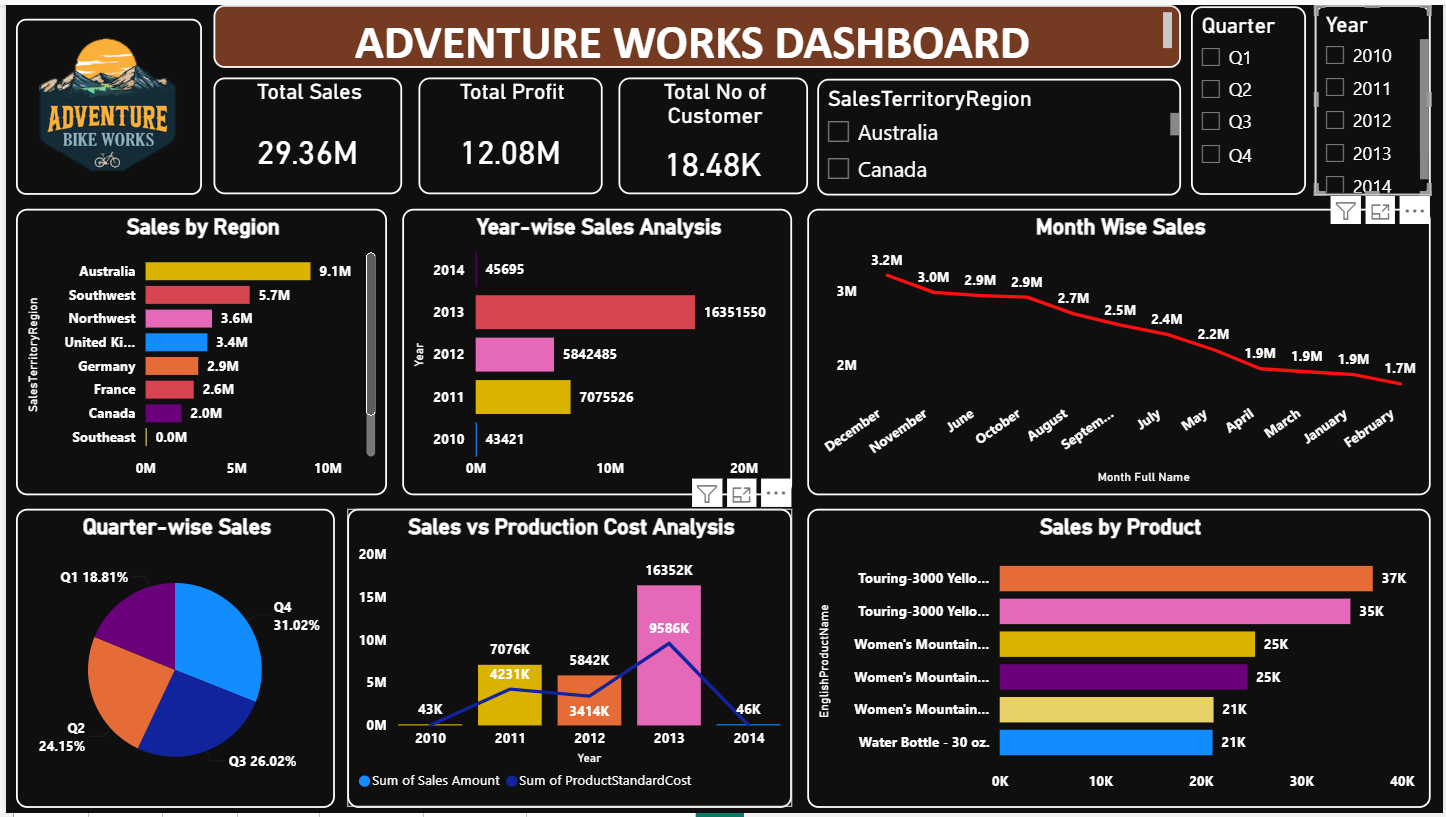

What the dashboard file says about the page in this screenshot:
{"tool":"powerbi","page":{"name":"Overall Dasboard","canvas":[1280,720],"ordinal":6},"visuals":[{"type":"textbox","box":[185,0,861.2,56.2],"z":0},{"type":"card","title":"Total Sales ","fields":{"Values":["Sum(FactInternetSales_All.Sales Amount)"]},"box":[185,65,167.7,104.1],"z":1000},{"type":"card","title":"Total Profit","fields":{"Values":["Sum(FactInternetSales_All.Profit)"]},"box":[367.7,65,163.6,104.1],"z":2000},{"type":"card","title":"Total No of Customer","fields":{"Values":["CountNonNull(Dimcustomer.CustomerKey)"]},"box":[545,65,168.6,104.1],"z":3000},{"type":"clusteredBarChart","title":"Sales by Region","fields":{"Category":["DimSalesTerritory.SalesTerritoryRegion"],"Y":["Sum(FactInternetSales_All.Sales Amount)"]},"box":[9,181.5,330.5,255],"z":4000},{"type":"clusteredBarChart","title":"Year-wise Sales Analysis","fields":{"Y":["Sum(FactInternetSales_All.Sales Amount)"],"Category":["FactInternetSales_All.Year"]},"box":[352.5,181.2,347.5,255],"z":5000},{"type":"pieChart","title":"Quarter-wise Sales","fields":{"Category":["FactInternetSales_All.Quarter"],"Y":["Sum(FactInternetSales_All.Sales Amount)"]},"box":[8.5,448.5,283.8,266.2],"z":6000},{"type":"lineStackedColumnComboChart","title":"Sales vs Production Cost Analysis","fields":{"Y":["Sum(FactInternetSales_All.Sales Amount)"],"Y2":["Sum(FactInternetSales_All.ProductStandardCost)"],"Category":["FactInternetSales_All.Year"]},"box":[303.8,448.5,396.2,266.2],"z":7000},{"type":"slicer","fields":{"Values":["FactInternetSales_All.Year"]},"box":[1165.9,0,102.9,169.4],"z":8000},{"type":"lineChart","title":"Month Wise Sales","fields":{"Y":["Sum(FactInternetSales_All.Sales Amount)"],"Category":["FactInternetSales_All.Month Full Name"]},"box":[713.5,181.2,555.3,255.3],"z":9000},{"type":"clusteredBarChart","title":"Sales by Product","fields":{"Category":["DimProduct.EnglishProductName"],"Y":["Sum(FactInternetSales_All.Sales Amount)"]},"box":[713.8,448.8,555,266.2],"z":10000},{"type":"slicer","fields":{"Values":["DimSalesTerritory.SalesTerritoryRegion"]},"box":[722.4,65.3,324.1,104.1],"z":11000},{"type":"slicer","fields":{"Values":["FactInternetSales_All.Quarter"]},"box":[1055.3,1.2,102.4,168.2],"z":12000},{"type":"image","box":[8.4,12.1,165.3,156.8],"z":13000}]}

Visuals, with their boxes in screenshot pixels (x1, y1, x2, y2), scaled from the page's 1280x720 canvas onto the 1446x817 screenshot:
textbox: l=209, t=0, r=1182, b=64
"Total Sales " card: l=209, t=74, r=398, b=192
"Total Profit" card: l=415, t=74, r=600, b=192
"Total No of Customer" card: l=616, t=74, r=806, b=192
"Sales by Region" clusteredBarChart: l=10, t=206, r=384, b=495
"Year-wise Sales Analysis" clusteredBarChart: l=398, t=206, r=791, b=495
"Quarter-wise Sales" pieChart: l=10, t=509, r=330, b=811
"Sales vs Production Cost Analysis" lineStackedColumnComboChart: l=343, t=509, r=791, b=811
slicer - FactInternetSales_All.Year: l=1317, t=0, r=1433, b=192
"Month Wise Sales" lineChart: l=806, t=206, r=1433, b=495
"Sales by Product" clusteredBarChart: l=806, t=509, r=1433, b=811
slicer - DimSalesTerritory.SalesTerritoryRegion: l=816, t=74, r=1182, b=192
slicer - FactInternetSales_All.Quarter: l=1192, t=1, r=1308, b=192
image: l=9, t=14, r=196, b=192
